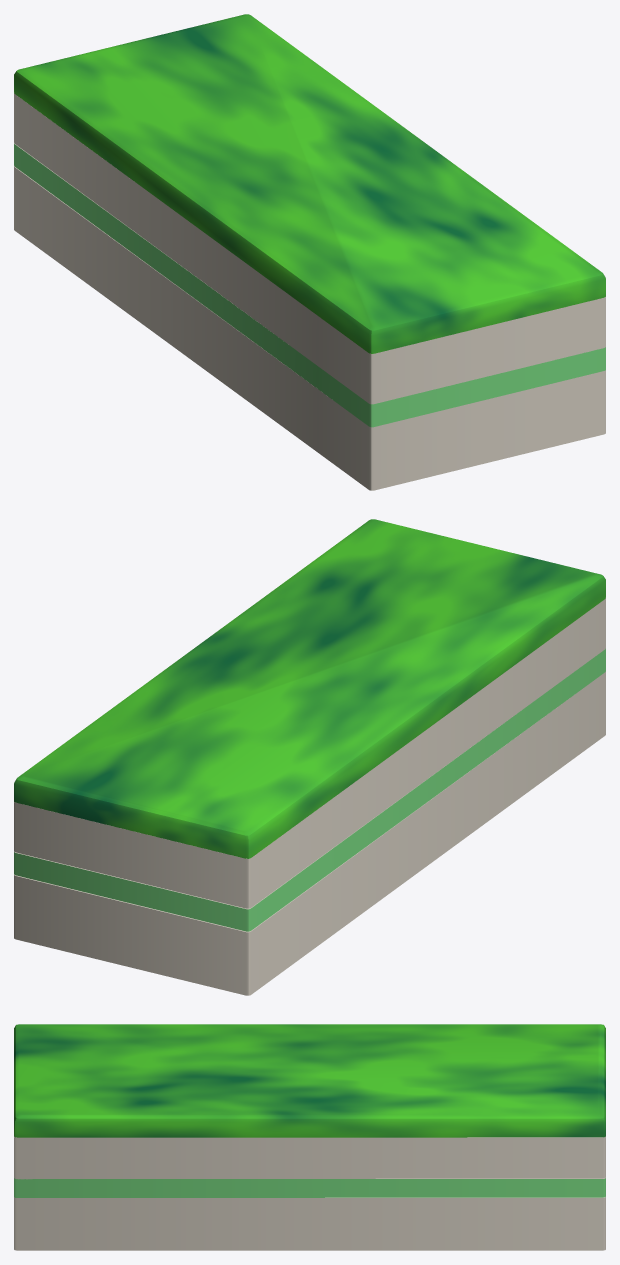
The model's file is caramella_verde_centro.fbx.
The picture shows the model from 3 angles, top to bottom: view 1: azimuth 30°, elevation 25°; view 2: azimuth 150°, elevation 25°; view 3: azimuth 270°, elevation 25°; orthographic projection. The views are drawn at different scales.
Visible parts, largest first — view 1: Cake.003; view 2: Cake.003; view 3: Cake.003.
Part boxes in pixels (x1,y1,x2,y2): Cake.003: (14,14,605,490); Cake.003: (14,519,605,995); Cake.003: (14,1024,605,1250).
Bounding box in the file's own units: 17.06 × 11.08 × 44.75.
